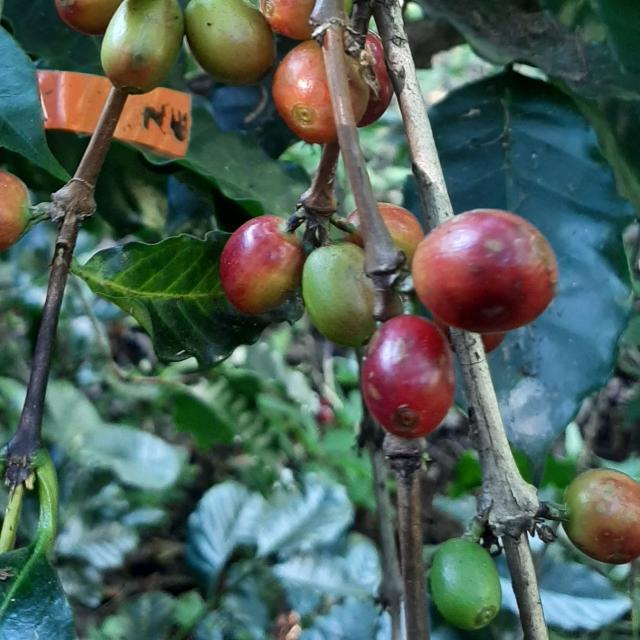green: (431, 539, 502, 632)
red: (362, 315, 456, 439)
yellow: (412, 209, 559, 333), (219, 216, 305, 315), (100, 0, 184, 93), (184, 0, 275, 85), (302, 243, 376, 347), (565, 469, 640, 565), (272, 39, 338, 143), (377, 202, 425, 265), (345, 54, 370, 123), (344, 210, 364, 247)
